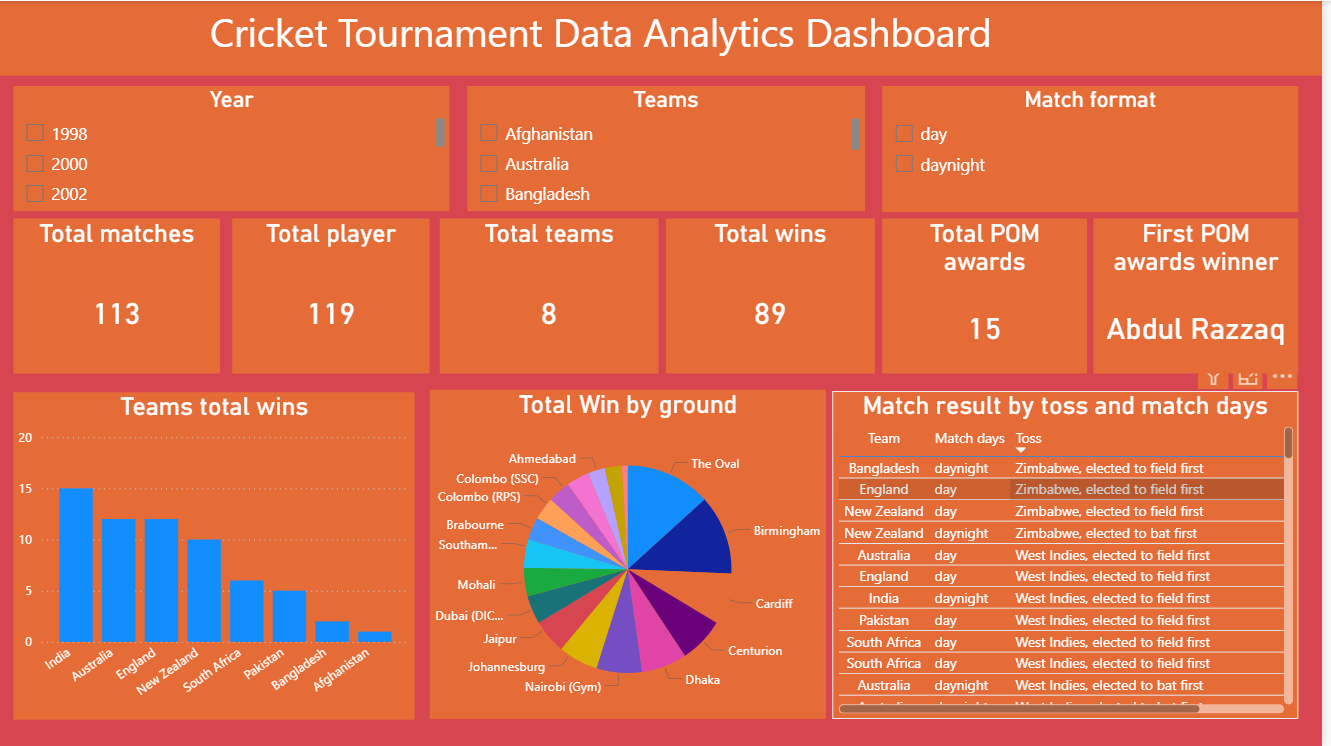

The dashboard page shown, as its layout file describes it:
{"tool":"powerbi","page":{"name":"Page 1","canvas":[1280,720],"ordinal":0},"visuals":[{"type":"card","title":"Total matches","fields":{"Values":["all_champions_trophy_matches_results-updated.Total matches"]},"box":[16.9,209.9,199.1,149.6],"z":0},{"type":"card","title":"Total teams","fields":{"Values":["all_champions_trophy_matches_results-updated.Total team"]},"box":[428.3,209.9,211.1,149.6],"z":1000},{"type":"card","title":"Total POM awards","fields":{"Values":["all_champions_trophy_matches_results-updated.Total player of match"]},"box":[855.4,209.9,197.9,149.6],"z":2000},{"type":"card","title":"Total player","fields":{"Values":["all_champions_trophy_matches_results-updated.Total players"]},"box":[228,209.9,190.6,149.6],"z":3000},{"type":"pieChart","title":"Total Win by ground","fields":{"Category":["all_champions_trophy_matches_results-updated.Ground"],"Y":["CountNonNull(all_champions_trophy_matches_results-updated.Winner)"]},"box":[418.6,375.2,382.4,317.3],"z":4000},{"type":"slicer","title":"Teams","fields":{"Values":["all_champions_trophy_players_list.Team"]},"box":[454.8,82,383.6,120.6],"z":5000},{"type":"slicer","title":"Year","fields":{"Values":["all_champions_trophy_players_list.Year"]},"box":[16.9,82,421,120.6],"z":6000},{"type":"textbox","box":[0,0,1280,72.3],"z":7000},{"type":"card","title":"Total wins","fields":{"Values":["all_champions_trophy_matches_results-updated.Total wins"]},"box":[646.7,209.9,201.5,149.6],"z":8000},{"type":"slicer","title":"Match format","fields":{"Values":["all_champions_trophy_matches_results-updated.Match days"]},"box":[855.4,82,401.7,121.9],"z":9000},{"type":"clusteredColumnChart","title":"Teams total wins","fields":{"Y":["all_champions_trophy_matches_results-updated.Total wins"],"Category":["all_champions_trophy_players_list.Team"]},"box":[16.9,377.6,387.3,316.1],"z":10000},{"type":"tableEx","title":"Match result by toss and match days","fields":{"Values":["all_champions_trophy_players_list.Team","all_champions_trophy_matches_results-updated.Match days","all_champions_trophy_matches_results-updated.Toss","all_champions_trophy_matches_results-updated.Winner"]},"box":[807.1,376.4,450,316.1],"z":11000},{"type":"card","title":"First POM awards winner","fields":{"Values":["Min(all_champions_trophy_matches_results-updated.Player of the Match)"]},"box":[1059.3,209.9,197.9,149.6],"z":12000}]}

Visuals, with their boxes in screenshot pixels (x1, y1, x2, y2), scaled from the page's 1280x720 canvas onto the 1331x746 screenshot:
"Total matches" card: box=[18, 217, 225, 372]
"Total teams" card: box=[445, 217, 665, 372]
"Total POM awards" card: box=[889, 217, 1095, 372]
"Total player" card: box=[237, 217, 435, 372]
"Total Win by ground" pieChart: box=[435, 389, 833, 718]
"Teams" slicer: box=[473, 85, 872, 210]
"Year" slicer: box=[18, 85, 455, 210]
textbox: box=[0, 0, 1330, 75]
"Total wins" card: box=[672, 217, 882, 372]
"Match format" slicer: box=[889, 85, 1307, 211]
"Teams total wins" clusteredColumnChart: box=[18, 391, 420, 719]
"Match result by toss and match days" tableEx: box=[839, 390, 1307, 718]
"First POM awards winner" card: box=[1102, 217, 1307, 372]
